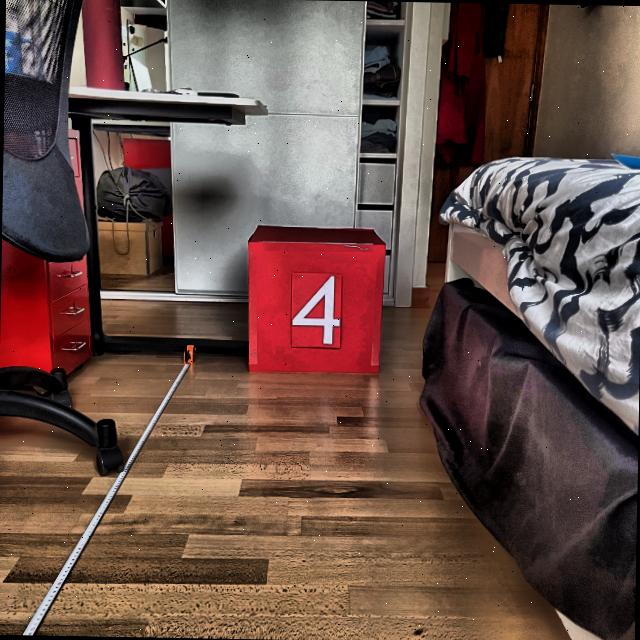four: (290, 274, 342, 345)
red box: (245, 223, 384, 375)
